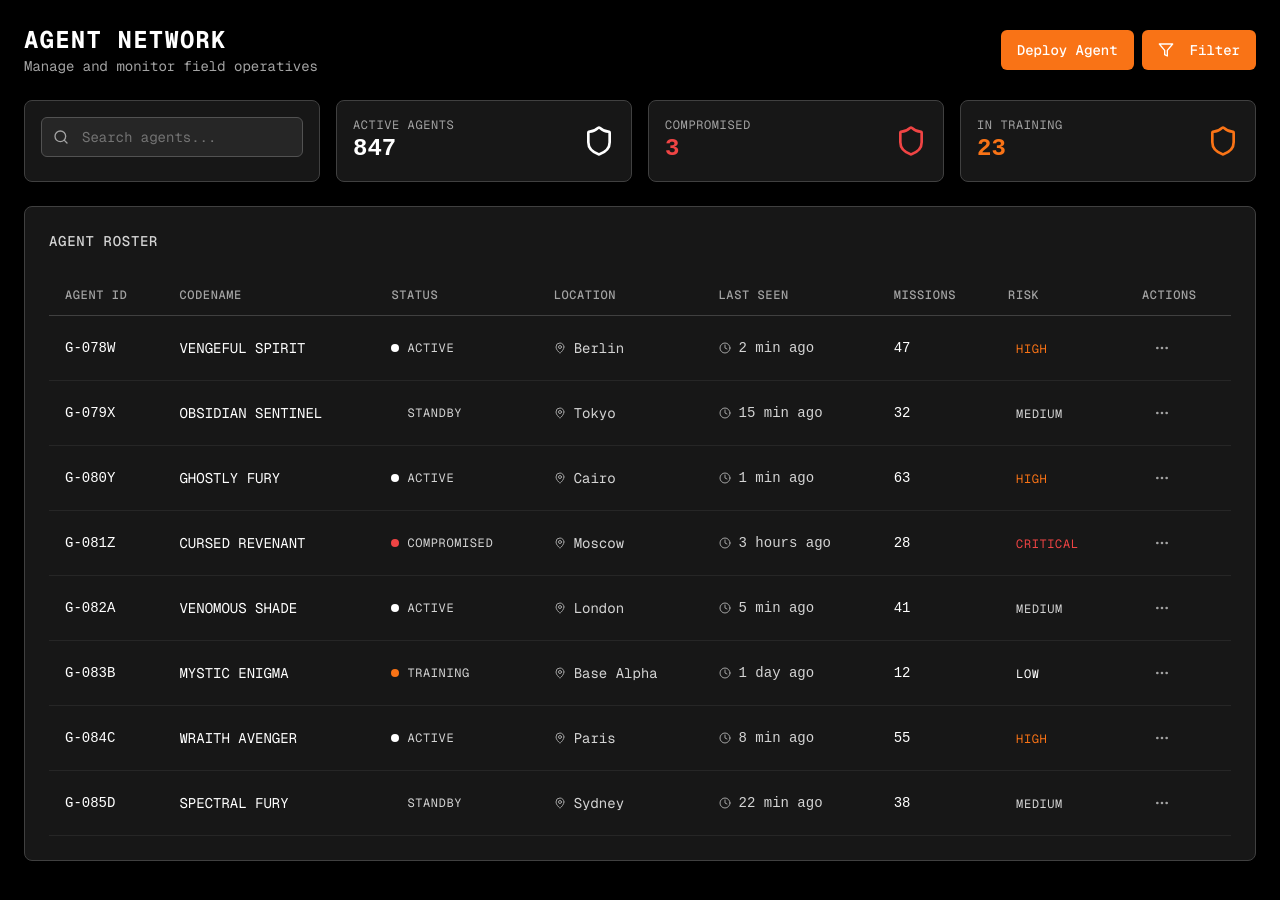
AgentNetworkPage › filters agents by ID when searching
This screenshot has width=1280, height=900.
Step 1. Type "G-081Z" into the field with placeholder "Search agents..." → (172, 137), box x1=41 y1=117 x2=303 y2=157
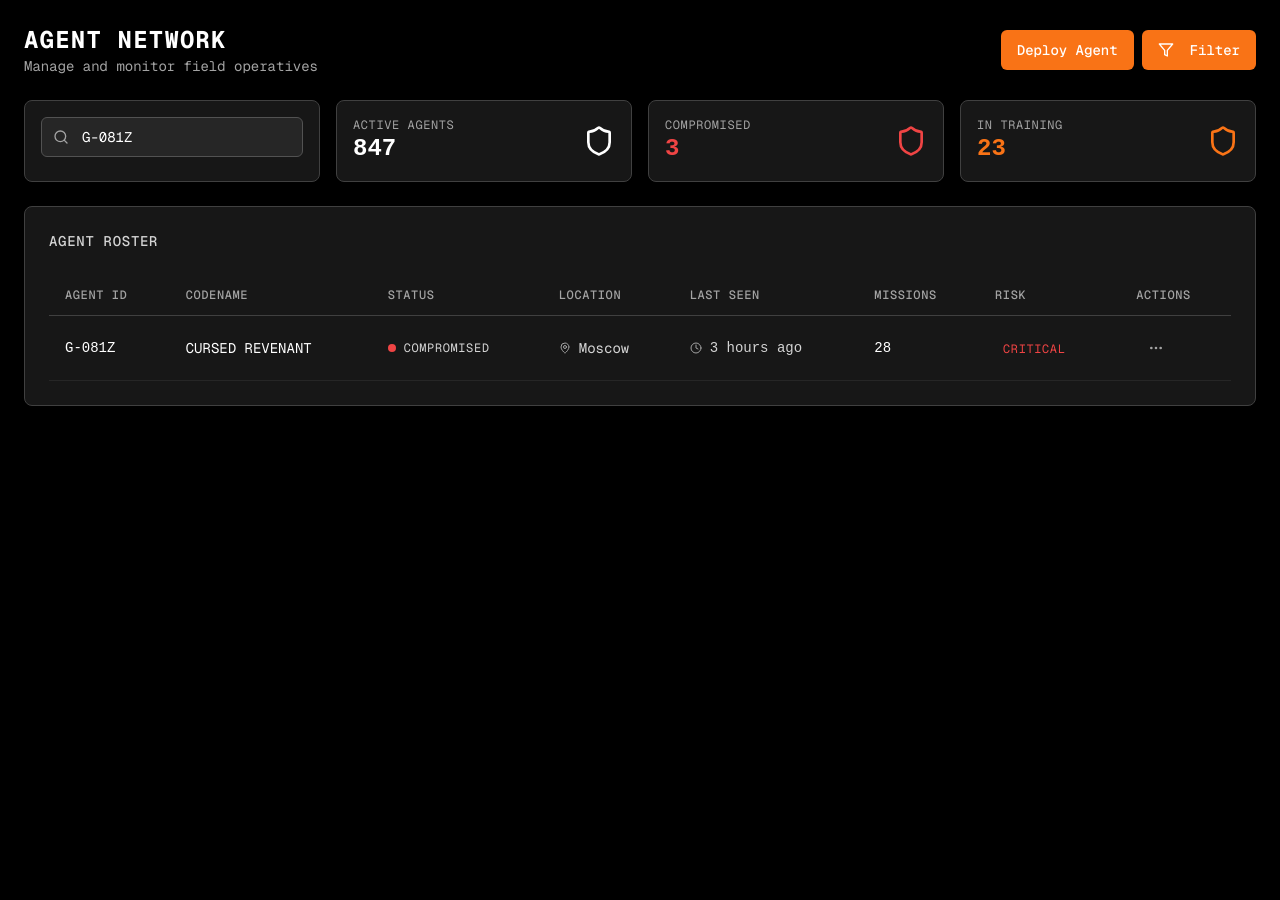
Check: the text "CURSED REVENANT" is shown, box x1=170 y1=316 x2=372 y2=380
Check: the text "VENGEFUL SPIRIT" is gone
